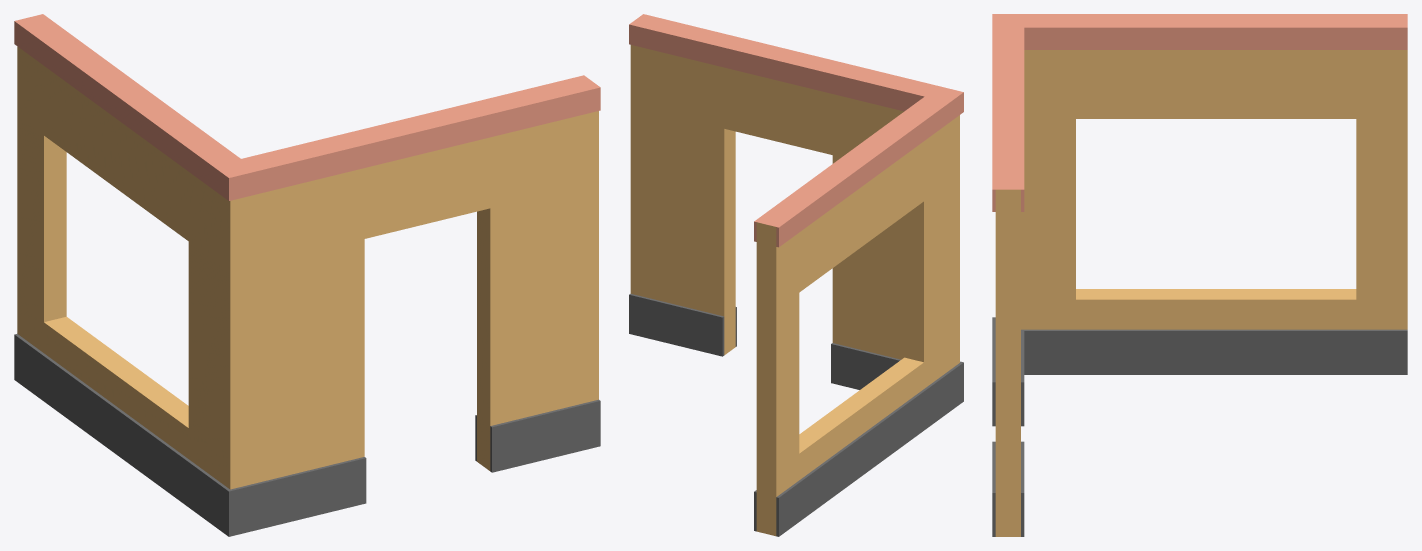
The model's file is Wall02-05.fbx.
3 renders of one model, left to right at view 1: azimuth 30°, elevation 25°; view 2: azimuth 150°, elevation 25°; view 3: azimuth 270°, elevation 25°, orthographic. The views are drawn at different scales.
Visible parts, largest first — view 1: Wall02-05; view 2: Wall02-05; view 3: Wall02-05.
Part boxes in pixels (x1,y1,x2,y2): Wall02-05: (14, 14, 600, 536); Wall02-05: (629, 14, 963, 536); Wall02-05: (992, 14, 1407, 536).
Size of the model in its own units: 3.25 by 3.25 by 3.
